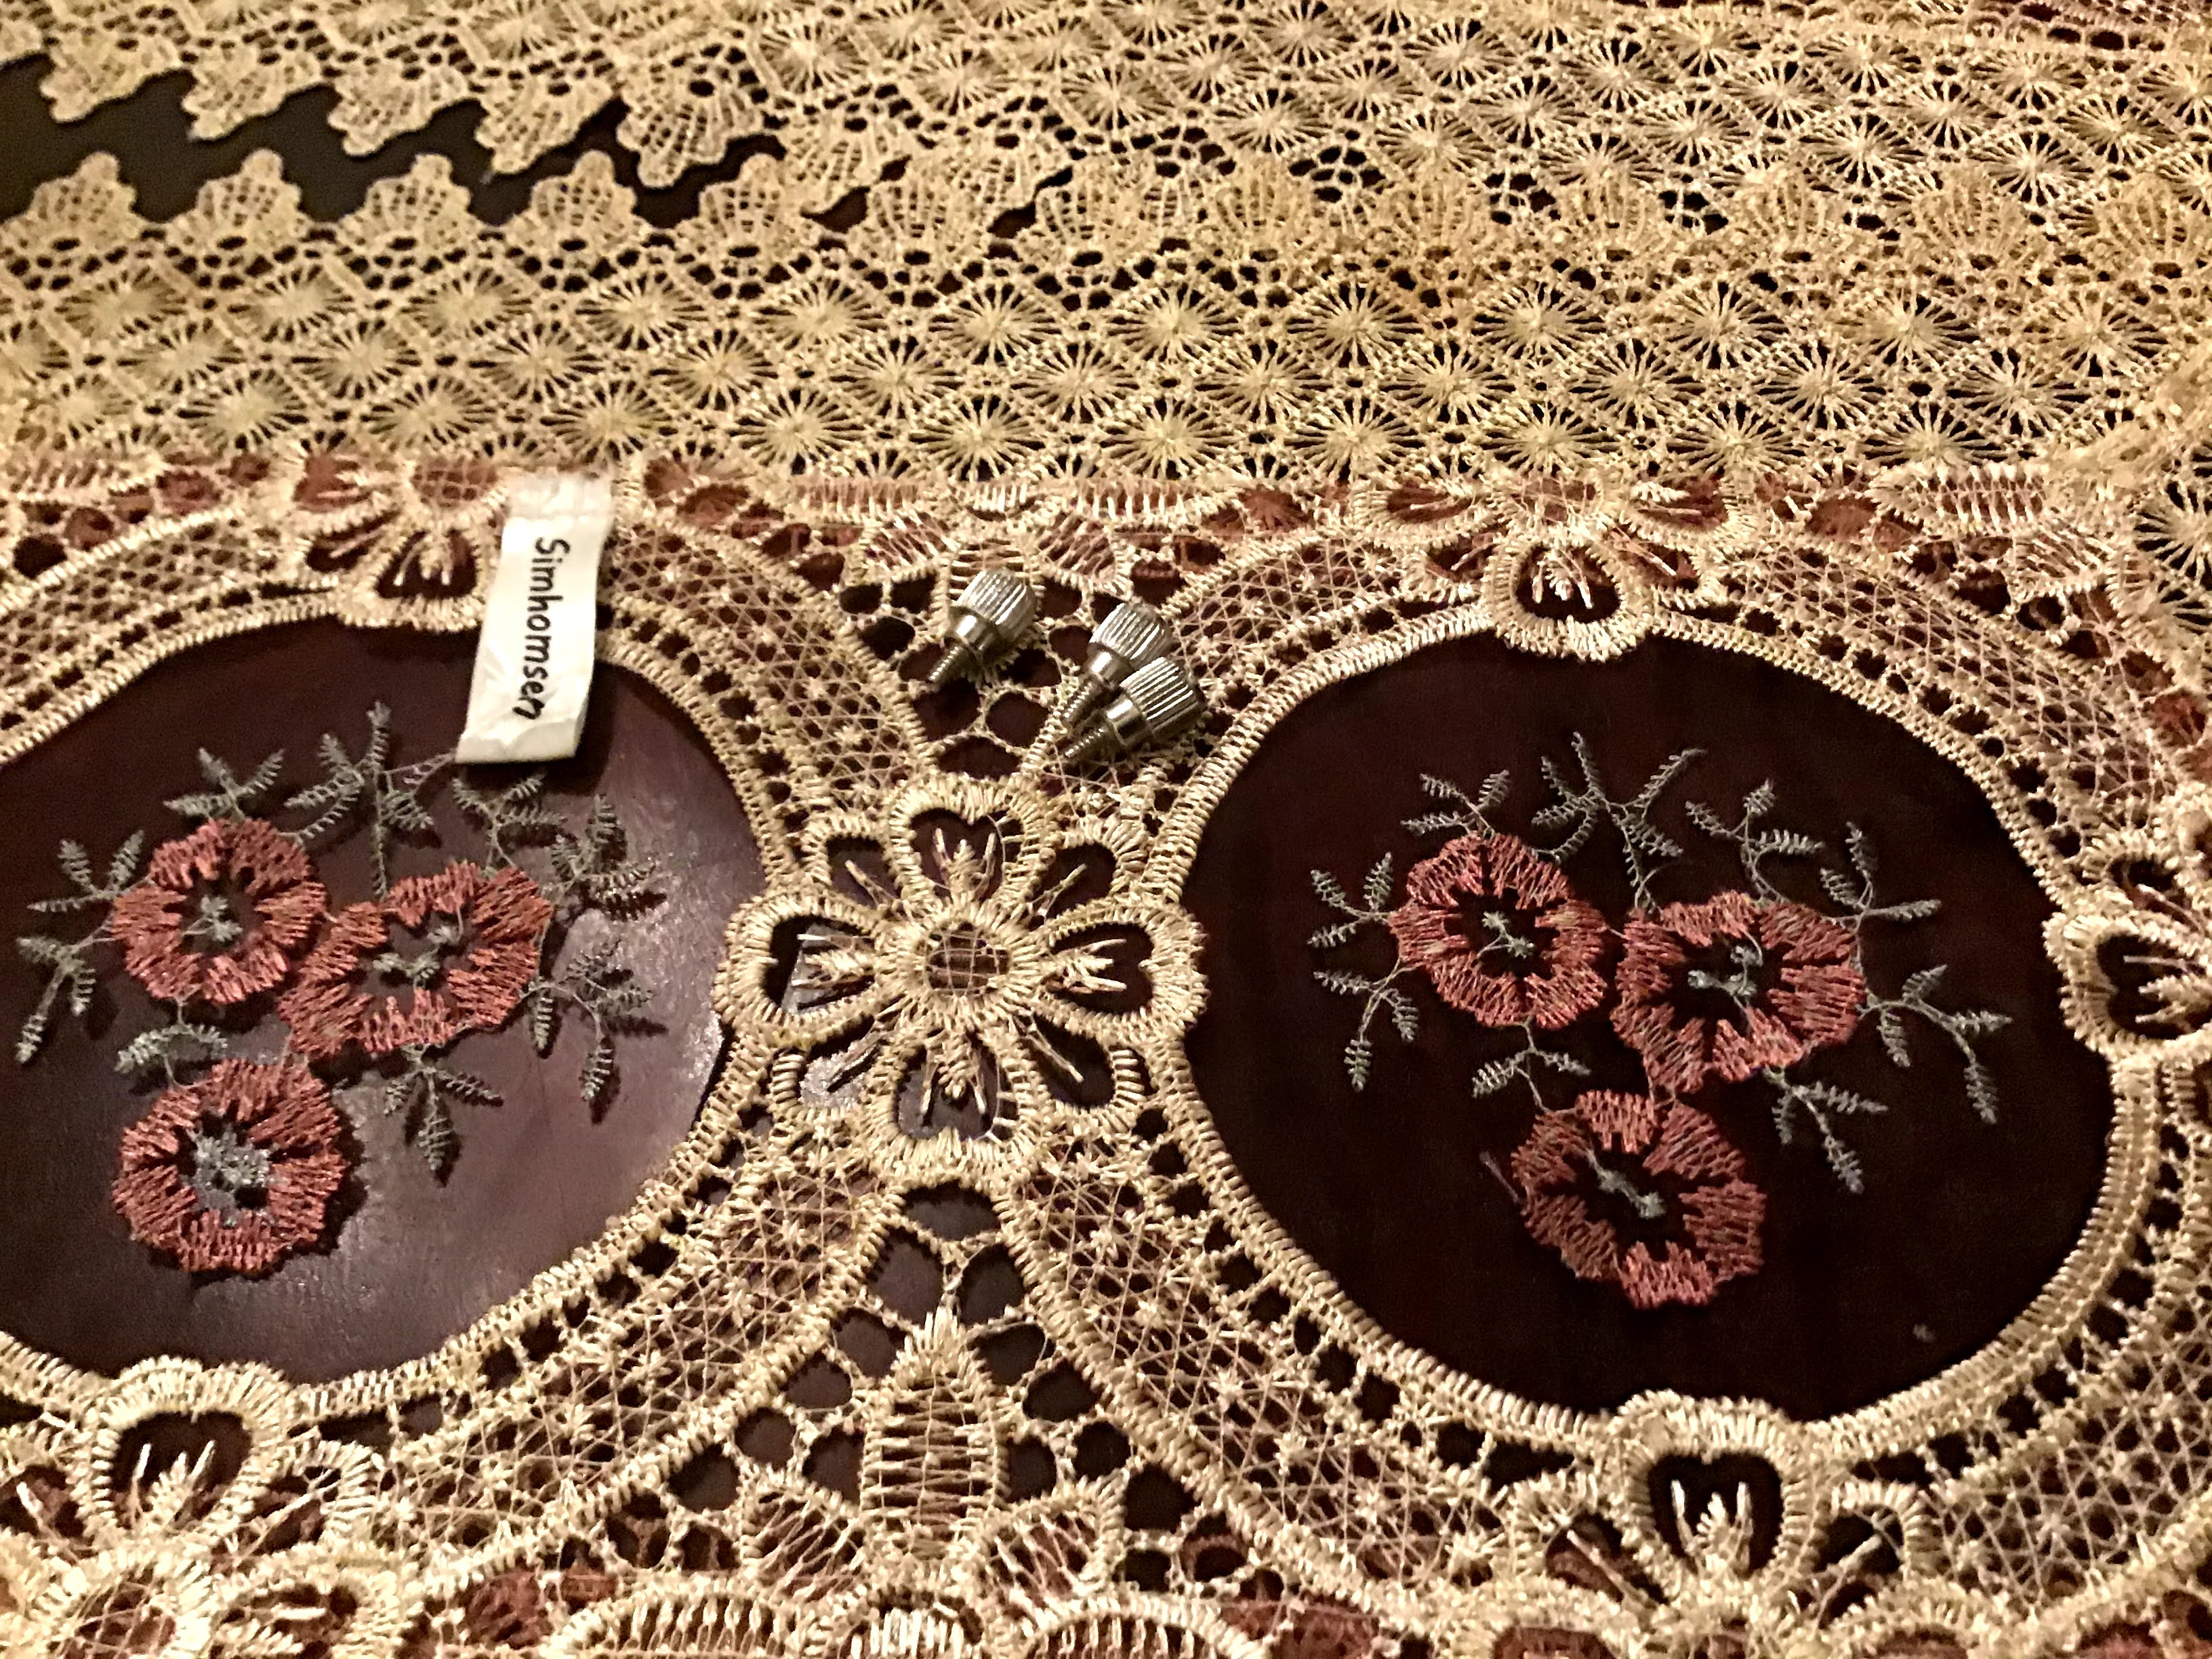Space-debris-small: (1064, 655, 1204, 777), (920, 566, 1038, 690), (1061, 599, 1169, 723)
